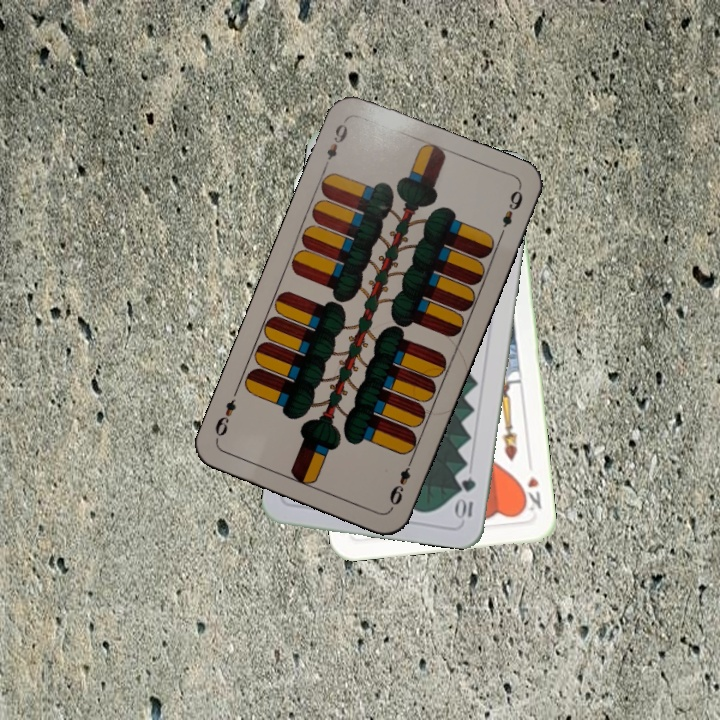E9: (319, 115, 351, 172), (385, 454, 416, 511)
G10: (454, 473, 478, 523)
HK: (517, 472, 544, 514)
